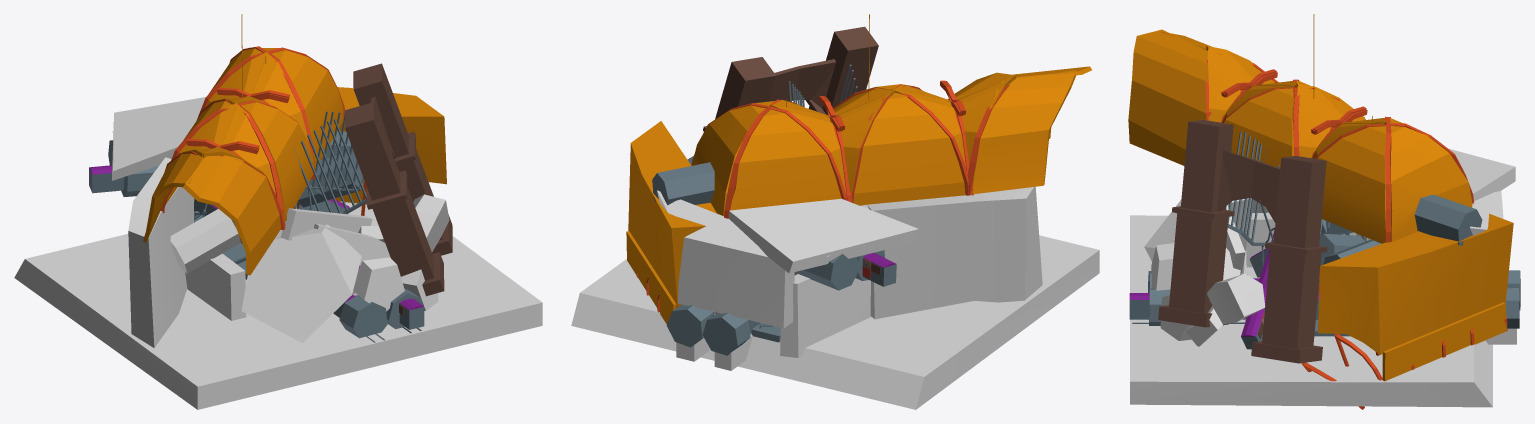
File: NY_layout.fbx
3 views of the same model, side by side, from view 1: azimuth 30°, elevation 25°; view 2: azimuth 150°, elevation 25°; view 3: azimuth 270°, elevation 25° (orthographic).
Parts seen in each view (by area): view 1: floor, actualArcs, N_Rubble, bridge, E_Wall, archs, SW_Wall, tunnel, mainTunnelsIn, tunnels, libertyFace, trains (+2 smaller); view 2: actualArcs, floor, E_Wall, SE_Wall, SW_Wall, archs, bridge, tunnels_2, trains; view 3: actualArcs, bridge, SW_Wall, floor, N_Rubble, libertyFace, archs, trains, tunnels, E_Wall, tunnels_2, SE_Wall (+2 smaller).
Part boxes in pixels (bbox=[...]): floor: bbox=[14, 201, 542, 409]; actualArcs: bbox=[143, 46, 344, 275]; N_Rubble: bbox=[241, 208, 438, 343]; bridge: bbox=[222, 63, 452, 296]; E_Wall: bbox=[128, 157, 246, 347]; archs: bbox=[111, 97, 205, 180]; SW_Wall: bbox=[321, 87, 446, 215]; tunnel: bbox=[170, 209, 240, 273]; mainTunnelsIn: bbox=[339, 288, 422, 338]; tunnels: bbox=[293, 131, 363, 209]; libertyFace: bbox=[413, 194, 449, 252]; trains: bbox=[89, 165, 349, 226]; actualArcs: bbox=[691, 66, 1091, 218]; floor: bbox=[571, 235, 1099, 409]; E_Wall: bbox=[867, 186, 1042, 319]; SE_Wall: bbox=[657, 190, 871, 357]; SW_Wall: bbox=[626, 121, 716, 324]; archs: bbox=[728, 198, 918, 273]; bridge: bbox=[703, 26, 878, 131]; tunnels_2: bbox=[666, 250, 884, 355]; trains: bbox=[862, 253, 896, 286]; actualArcs: bbox=[1128, 29, 1474, 243]; bridge: bbox=[1158, 120, 1365, 363]; SW_Wall: bbox=[1301, 194, 1513, 409]; floor: bbox=[1130, 215, 1516, 407]; N_Rubble: bbox=[1144, 198, 1251, 346]; libertyFace: bbox=[1207, 273, 1265, 324]; archs: bbox=[1448, 148, 1515, 201]; trains: bbox=[1241, 219, 1353, 349]; tunnels: bbox=[1319, 233, 1381, 265]; E_Wall: bbox=[1246, 200, 1367, 267]; tunnels_2: bbox=[1505, 270, 1520, 328]; SE_Wall: bbox=[1367, 191, 1506, 297].
Bounding box in the file's own units: 4217 × 3543 × 4186.
